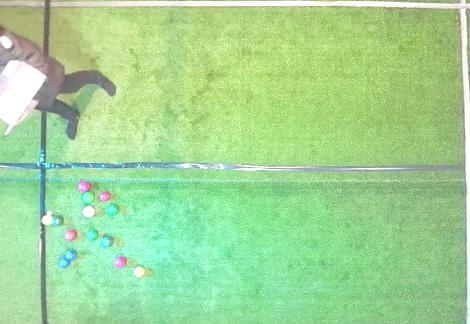blue: (65, 250, 77, 260), (59, 258, 70, 268)
green: (101, 236, 113, 247), (82, 192, 94, 203), (53, 215, 64, 226), (88, 230, 99, 240), (109, 205, 119, 214)
red: (65, 230, 77, 241), (83, 206, 95, 217), (78, 181, 90, 192), (115, 257, 126, 268), (99, 192, 110, 201)
vline: (1, 113, 48, 217), (1, 228, 48, 323), (457, 0, 469, 324), (1, 0, 50, 56)
white: (47, 211, 52, 215)
yellow: (134, 267, 145, 277), (42, 215, 53, 225)
